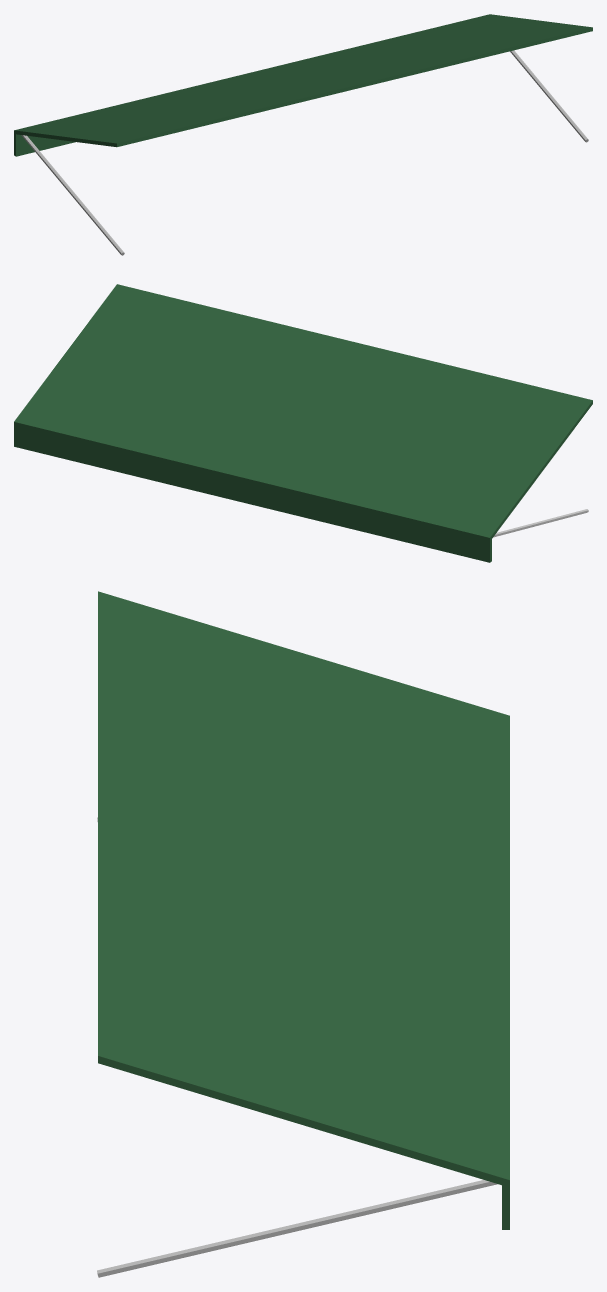
The model's file is retail.store.awning.glb.
3 views of the same model, one above another, from view 1: azimuth 30°, elevation 25°; view 2: azimuth 150°, elevation 25°; view 3: azimuth 270°, elevation 25° (orthographic). The views are drawn at different scales.
Parts seen in each view (by area): view 1: main__fabric_green, main__steel_stainless; view 2: main__fabric_green, main__steel_stainless; view 3: main__fabric_green, main__steel_stainless.
Boxes of the visible parts, box(x1,y1,x2,y2) form: main__fabric_green: box(14, 14, 592, 156); main__steel_stainless: box(21, 50, 588, 255); main__fabric_green: box(14, 284, 592, 562); main__steel_stainless: box(493, 509, 588, 537); main__fabric_green: box(98, 591, 509, 1229); main__steel_stainless: box(97, 817, 497, 1277).
Size of the model in its own units: 4 by 0.9145 by 1.5.
